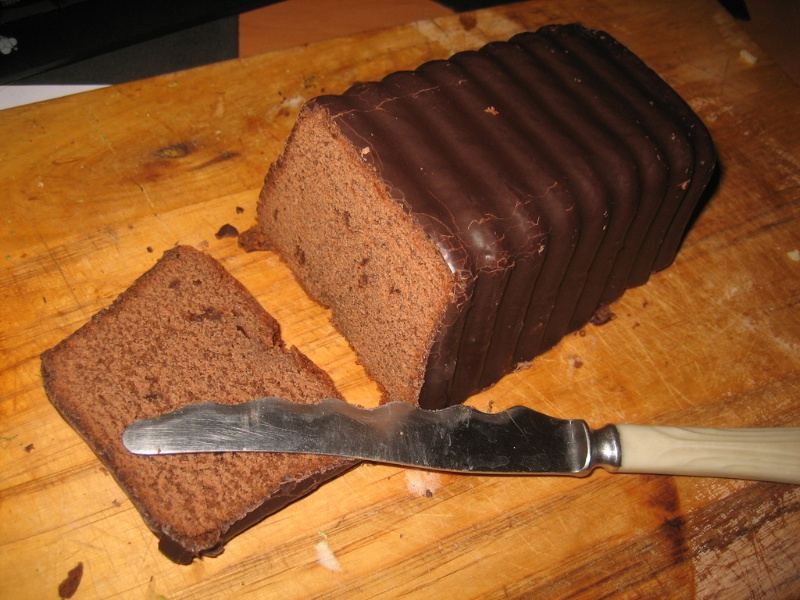knife: (116, 390, 800, 487)
